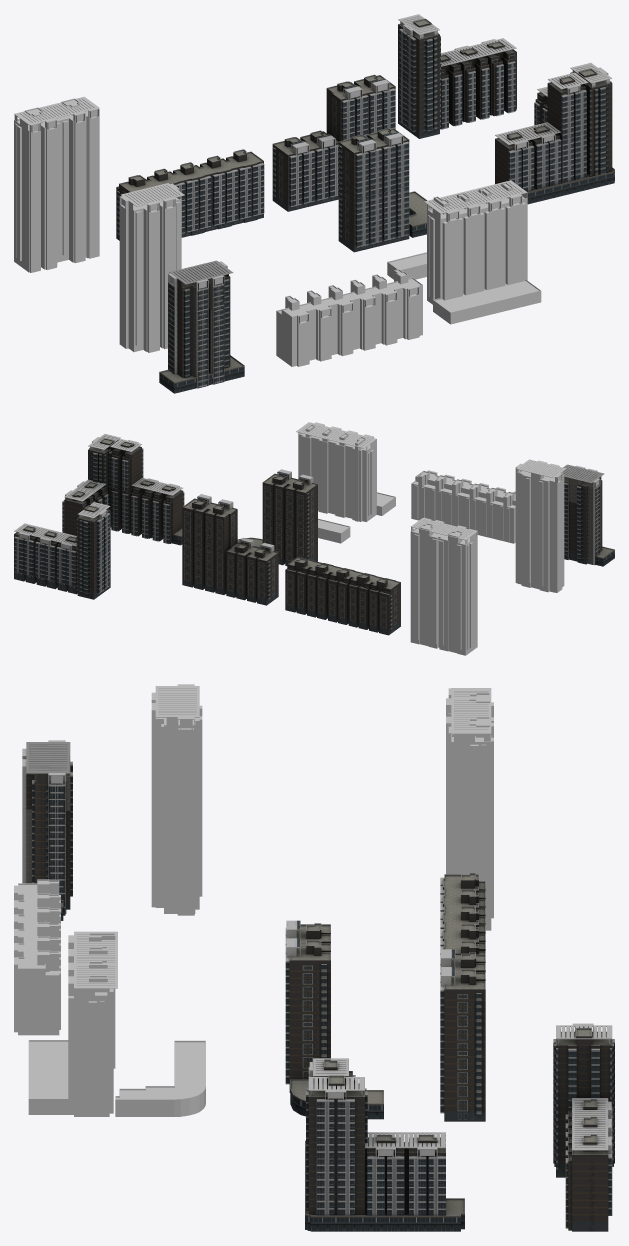
File: xiaoqu3#.FBX
3 renders of one model, top to bottom at view 1: azimuth 30°, elevation 25°; view 2: azimuth 150°, elevation 25°; view 3: azimuth 270°, elevation 25°, orthographic. The views are drawn at different scales.
Visible parts, largest first — view 1: xiaoqu3#-8, xiaoqu3#-5, xiaoqu3#-2, xiaoqu3#-1, xiaoqu3#-7, xiaoqu3#-9, xiaoqu3#-4, xiaoqu3#-3, xiaoqu3#-10, xiaoqu3#-6; view 2: xiaoqu3#-8, xiaoqu3#-2, xiaoqu3#-3, xiaoqu3#-5, xiaoqu3#-1, xiaoqu3#-6, xiaoqu3#-9, xiaoqu3#-7, xiaoqu3#-4, xiaoqu3#-10; view 3: xiaoqu3#-2, xiaoqu3#-5, xiaoqu3#-1, xiaoqu3#-9, xiaoqu3#-8, xiaoqu3#-4, xiaoqu3#-3, xiaoqu3#-10, xiaoqu3#-7, xiaoqu3#-6.
Boxes of the visible parts, x1,y1,x2,y2 form: xiaoqu3#-8: [14, 96, 99, 272]; xiaoqu3#-5: [387, 180, 541, 324]; xiaoqu3#-2: [495, 63, 614, 204]; xiaoqu3#-1: [398, 14, 516, 138]; xiaoqu3#-7: [276, 269, 422, 366]; xiaoqu3#-9: [119, 183, 184, 352]; xiaoqu3#-4: [338, 128, 430, 252]; xiaoqu3#-3: [272, 74, 395, 211]; xiaoqu3#-10: [159, 260, 244, 393]; xiaoqu3#-6: [116, 149, 264, 240]; xiaoqu3#-8: [410, 517, 477, 655]; xiaoqu3#-2: [62, 434, 184, 545]; xiaoqu3#-3: [182, 494, 278, 605]; xiaoqu3#-5: [296, 422, 395, 543]; xiaoqu3#-1: [14, 502, 110, 599]; xiaoqu3#-6: [285, 557, 400, 635]; xiaoqu3#-9: [515, 459, 566, 592]; xiaoqu3#-7: [411, 470, 515, 543]; xiaoqu3#-4: [237, 469, 317, 565]; xiaoqu3#-10: [563, 464, 614, 566]; xiaoqu3#-2: [305, 1058, 464, 1231]; xiaoqu3#-5: [28, 931, 205, 1116]; xiaoqu3#-1: [553, 1023, 614, 1231]; xiaoqu3#-9: [151, 684, 202, 915]; xiaoqu3#-8: [446, 688, 493, 930]; xiaoqu3#-4: [285, 920, 383, 1119]; xiaoqu3#-3: [440, 949, 485, 1121]; xiaoqu3#-10: [22, 740, 72, 920]; xiaoqu3#-7: [14, 879, 60, 1035]; xiaoqu3#-6: [440, 873, 485, 956].
Bounding box in the file's own units: 314 × 224 × 81.5.
